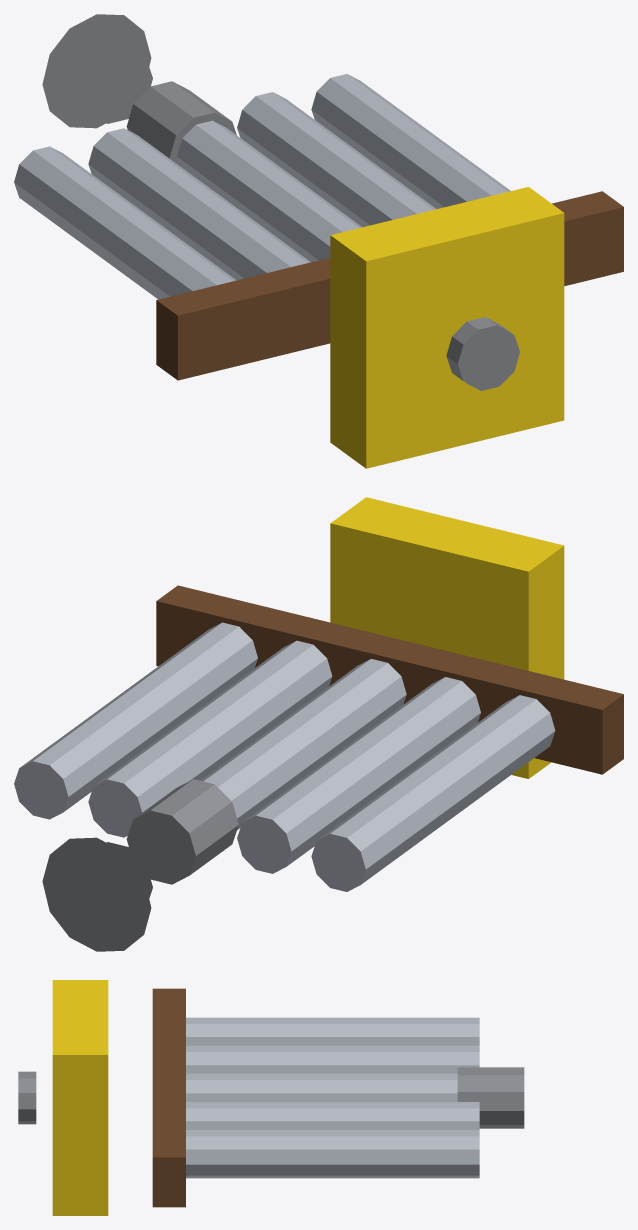
The model's file is SM_WindChime_Yellow.obj.
The picture shows the model from 3 angles, top to bottom: view 1: azimuth 30°, elevation 25°; view 2: azimuth 150°, elevation 25°; view 3: azimuth 270°, elevation 25°; orthographic projection. The views are drawn at different scales.
Visible parts, largest first — view 1: mesh; view 2: mesh; view 3: mesh.
Part boxes in pixels (x1,y1,x2,y2): mesh: (14,14,623,468); mesh: (14,497,623,951); mesh: (18,980,524,1215).
Bounding box in the file's own units: 18 × 8 × 27.5.
